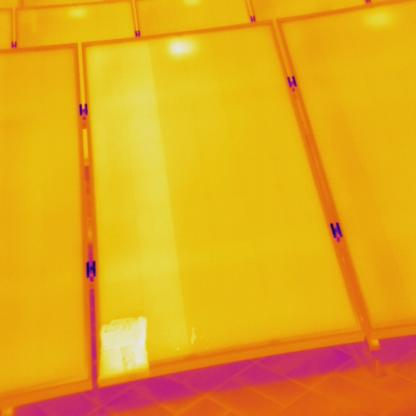hotspot: (96, 314, 150, 382), (165, 35, 209, 61)
